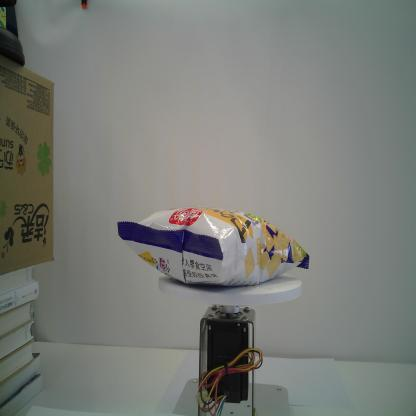Puffed Food: (116, 204, 311, 291)
